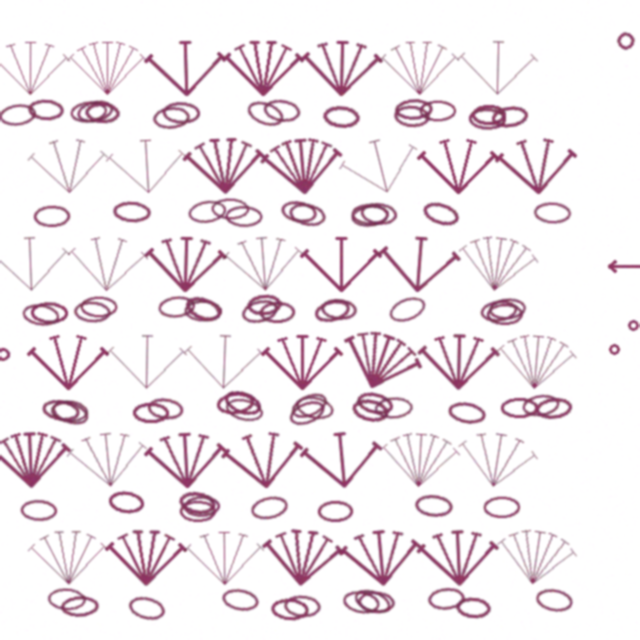chain: (288, 388, 331, 423), (386, 292, 429, 326), (286, 396, 328, 430), (244, 97, 287, 130), (221, 386, 264, 419), (182, 292, 224, 325), (351, 585, 393, 618), (49, 397, 91, 429), (420, 198, 461, 230), (239, 296, 281, 326), (223, 395, 265, 425), (312, 296, 353, 326), (126, 593, 167, 623), (287, 200, 328, 229), (294, 393, 335, 422), (354, 389, 395, 418), (249, 493, 290, 522), (75, 97, 115, 126), (446, 399, 487, 427), (279, 198, 319, 226), (350, 396, 390, 424), (220, 586, 260, 614), (341, 588, 381, 616), (534, 586, 574, 614), (40, 397, 81, 424), (262, 97, 302, 124), (187, 198, 227, 225), (521, 392, 561, 419), (177, 489, 217, 516), (350, 203, 390, 229), (479, 298, 519, 324), (215, 390, 255, 416), (69, 99, 108, 125), (490, 104, 529, 130), (21, 302, 60, 328), (157, 294, 196, 320), (146, 396, 185, 422), (107, 489, 146, 515), (152, 105, 191, 130), (359, 201, 398, 226), (534, 396, 573, 421), (414, 493, 453, 518), (0, 102, 37, 128), (322, 104, 360, 129), (320, 297, 358, 322), (427, 586, 465, 611), (112, 200, 151, 224), (533, 201, 572, 225), (488, 297, 527, 321), (50, 399, 89, 423), (374, 396, 413, 420), (47, 587, 86, 611), (270, 597, 309, 621), (357, 590, 396, 614), (27, 98, 65, 122), (393, 104, 431, 128), (73, 300, 111, 324), (283, 594, 321, 618), (394, 98, 433, 121), (60, 595, 99, 618), (84, 101, 121, 125), (246, 293, 283, 317), (455, 596, 492, 620), (162, 101, 200, 124), (468, 107, 506, 130), (225, 205, 263, 228), (30, 301, 68, 324), (351, 203, 388, 226), (20, 499, 57, 522), (183, 495, 220, 518), (33, 205, 71, 227), (211, 198, 249, 220), (80, 296, 118, 318), (184, 300, 222, 322), (500, 397, 538, 419), (419, 100, 456, 122), (259, 301, 296, 323), (486, 303, 523, 325), (132, 402, 169, 424), (179, 500, 216, 522), (317, 500, 354, 522), (483, 496, 520, 518), (471, 104, 507, 126)
fan: (332, 318, 430, 403), (333, 125, 428, 205), (452, 422, 543, 496), (491, 520, 582, 593), (453, 227, 543, 299), (219, 424, 308, 494), (64, 424, 152, 493), (298, 424, 386, 493), (259, 522, 347, 591), (337, 522, 425, 591), (259, 131, 346, 199), (376, 229, 463, 297), (493, 327, 580, 395), (220, 229, 307, 296), (104, 132, 190, 198), (494, 132, 580, 198), (65, 230, 151, 296), (143, 426, 229, 492), (377, 426, 463, 492), (182, 132, 267, 197), (182, 328, 267, 393), (416, 524, 501, 589), (26, 133, 111, 197), (144, 35, 228, 99), (300, 35, 384, 99), (144, 231, 228, 295), (456, 35, 540, 98), (105, 329, 189, 392), (417, 329, 501, 392), (27, 525, 110, 588), (105, 525, 188, 588), (66, 36, 149, 98), (222, 36, 305, 98), (378, 36, 461, 98), (417, 134, 500, 196), (300, 232, 383, 294), (27, 330, 110, 392), (261, 330, 344, 392), (183, 526, 266, 588), (0, 230, 73, 295), (0, 426, 73, 491), (0, 36, 72, 98)
noise: (605, 258, 640, 274), (615, 30, 637, 52), (626, 318, 640, 332), (608, 343, 621, 356), (0, 347, 11, 362)
